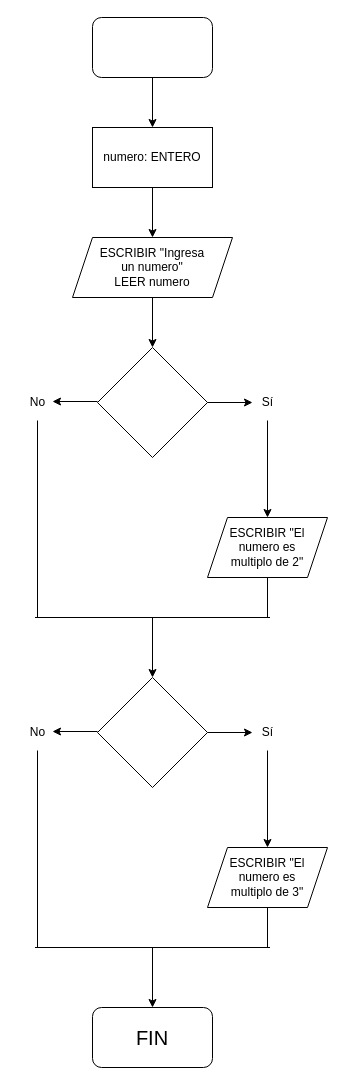
Some shapes in this 345 by 1085 pixel diagram are drawn without their labels. The box of each missing label's shape, as (x1, y1, x2, y2) in pixels:
INICIO: (92, 16, 212, 78)
numero%2==0: (96, 346, 208, 458)
numero%3==0: (96, 676, 208, 788)
